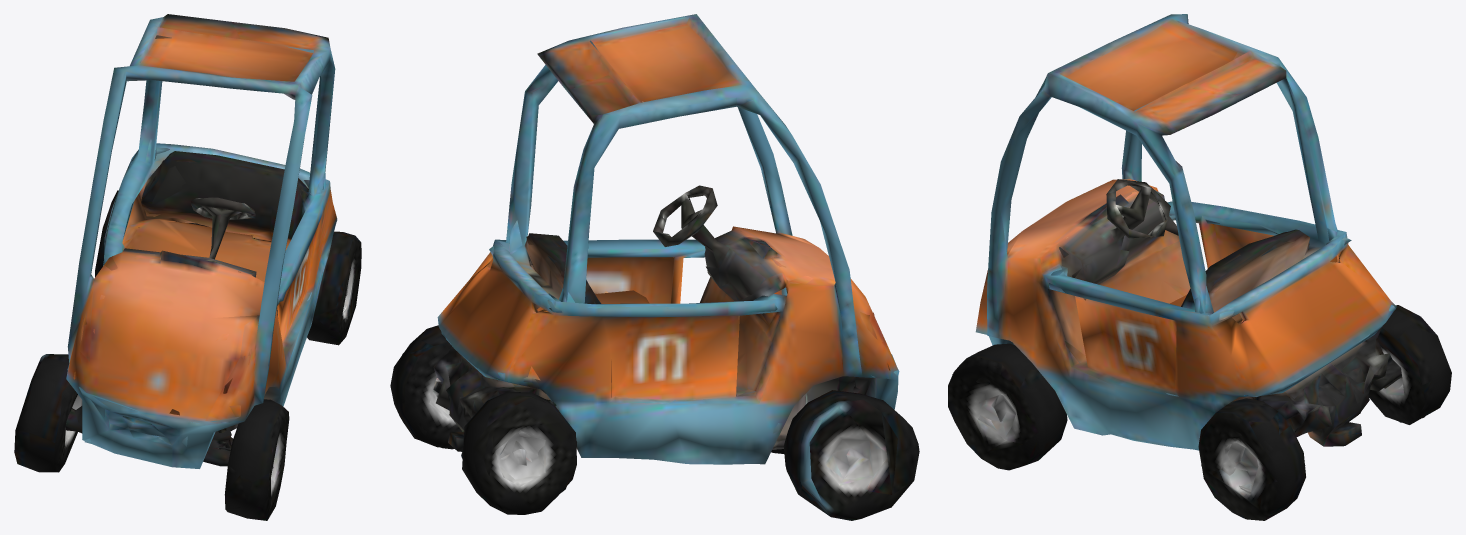
Rendered from bumper-car.glb.
3 renders of one model, left to right at view 1: azimuth 30°, elevation 25°; view 2: azimuth 150°, elevation 25°; view 3: azimuth 270°, elevation 25°, orthographic. The views are drawn at different scales.
Visible parts, largest first — view 1: RETOPO; view 2: RETOPO; view 3: RETOPO.
Part boxes in pixels (x1,y1,x2,y2): RETOPO: (14, 14, 361, 520); RETOPO: (390, 14, 919, 520); RETOPO: (948, 14, 1451, 520).
Bounding box in the file's own units: 0.8897 × 0.8265 × 0.8862.
1 material, 1 textured.
